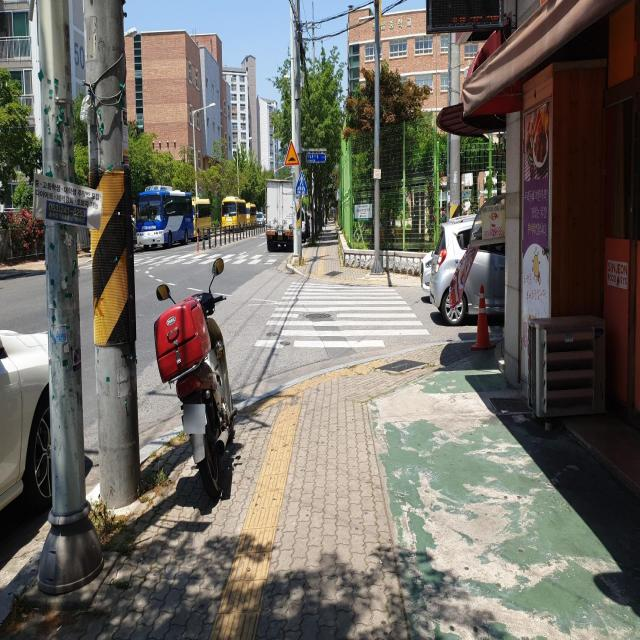횡단보도: (253, 281, 431, 349), (132, 255, 290, 269)
